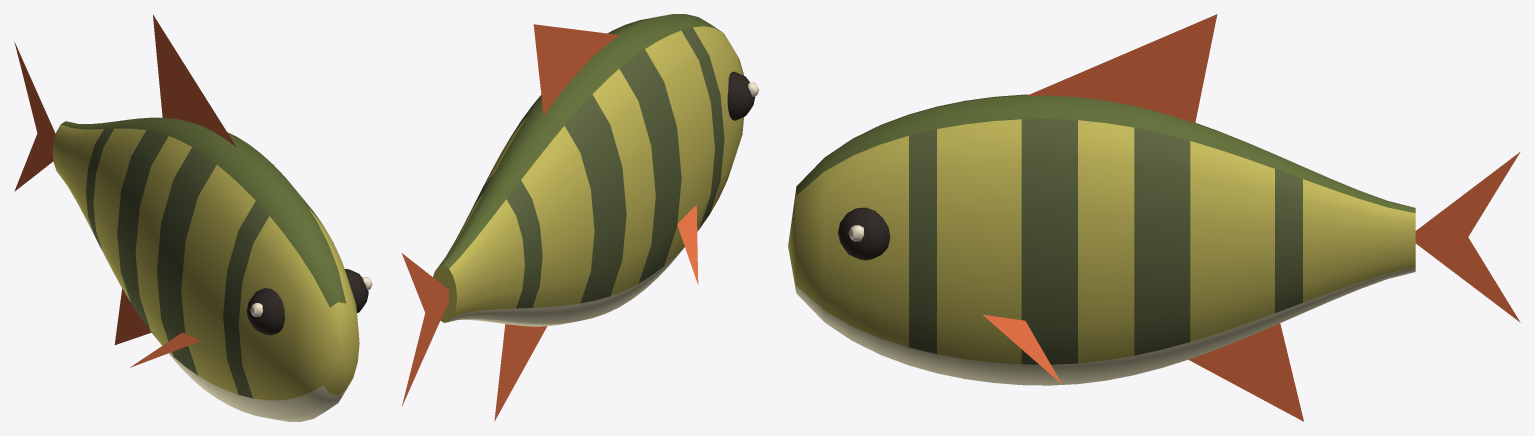
Rendered from perch.fbx.
The picture shows the model from 3 angles, left to right: view 1: azimuth 30°, elevation 25°; view 2: azimuth 150°, elevation 25°; view 3: azimuth 270°, elevation 25°; orthographic projection. The views are drawn at different scales.
Parts seen in each view (by area): view 1: Fish_perch_EXP; view 2: Fish_perch_EXP; view 3: Fish_perch_EXP.
Part boxes in pixels (bbox=[...]): Fish_perch_EXP: bbox=[14, 15, 372, 421]; Fish_perch_EXP: bbox=[401, 14, 759, 421]; Fish_perch_EXP: bbox=[788, 14, 1520, 421].
Size of the model in its own units: 0.1483 by 0.2762 by 0.4497.
